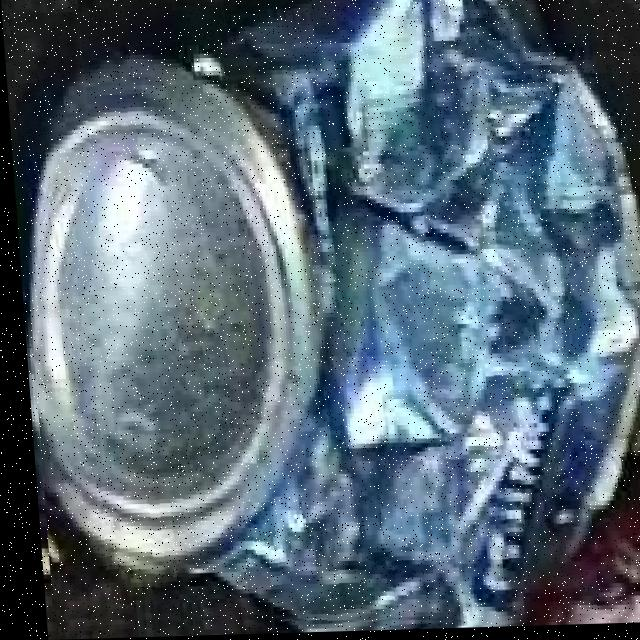litter: (31, 0, 640, 624)
